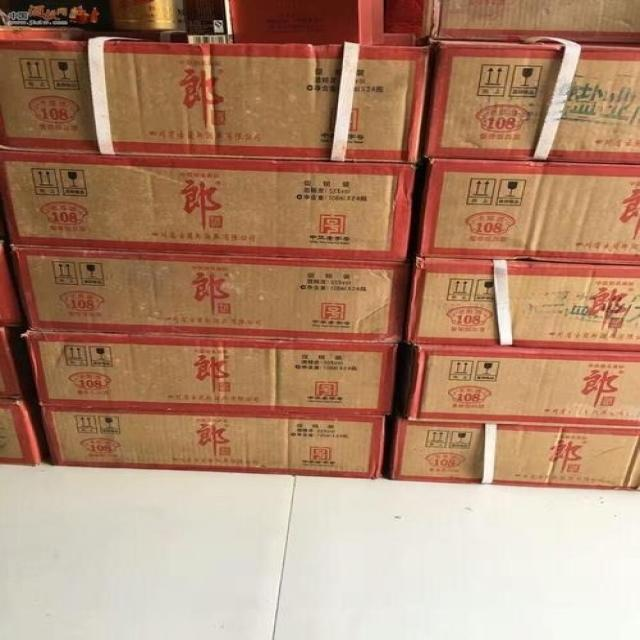box: (0, 41, 431, 163), (0, 153, 419, 263), (6, 246, 408, 343), (27, 333, 399, 417), (420, 38, 639, 165), (37, 407, 385, 478), (413, 161, 639, 266), (383, 405, 639, 490), (406, 258, 639, 350), (399, 343, 639, 426), (433, 1, 639, 42), (225, 1, 385, 47), (0, 400, 44, 465), (0, 325, 36, 400), (383, 1, 438, 47), (0, 243, 26, 327)
